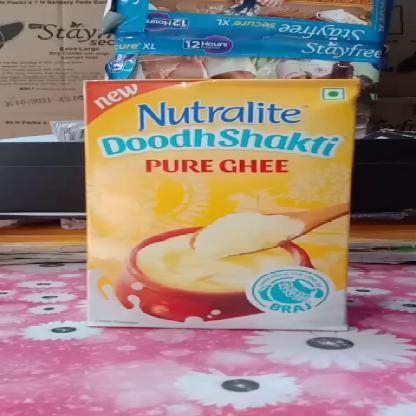Nutralite DOODHSHAKTHI PURE GHEE 1L: (86, 80, 355, 328)
